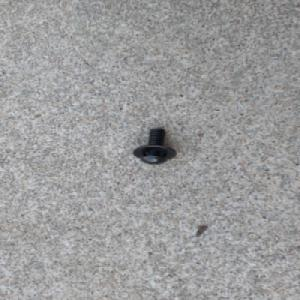BoltWasher: (132, 126, 178, 165)
